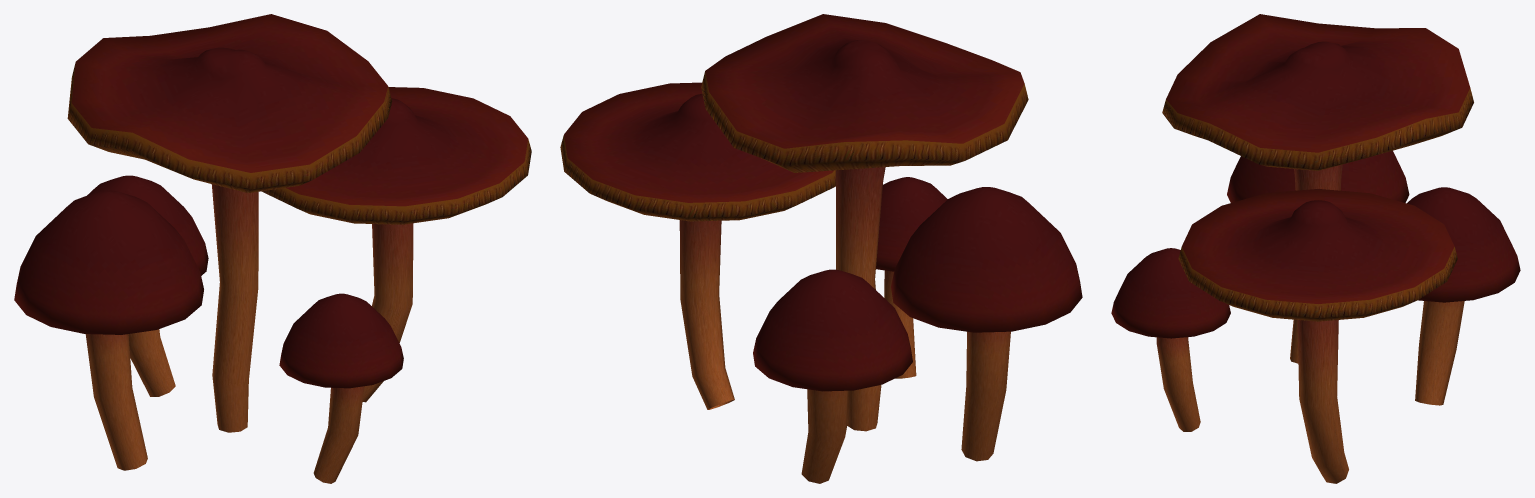
The model's file is simple_cartoon_mushrooms_1.glb.
The picture shows the model from 3 angles, left to right: view 1: azimuth 30°, elevation 25°; view 2: azimuth 150°, elevation 25°; view 3: azimuth 270°, elevation 25°; orthographic projection. The views are drawn at different scales.
Parts seen in each view (by area): view 1: Hygrocybe_punicea; view 2: Hygrocybe_punicea; view 3: Hygrocybe_punicea.
Part boxes in pixels (left/top/right/bottom): Hygrocybe_punicea: left=14, top=14, right=531, bottom=483; Hygrocybe_punicea: left=560, top=14, right=1082, bottom=483; Hygrocybe_punicea: left=1111, top=14, right=1520, bottom=483.
Size of the model in its own units: 1.41 by 1.07 by 1.08.
Materials: 1 (1 with a texture image).
